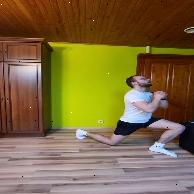lunges: (69, 75, 188, 168)
